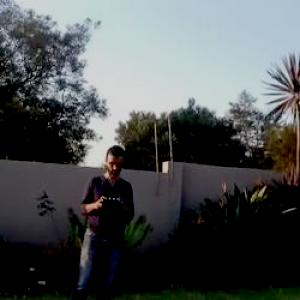follow: (53, 142, 139, 298)
